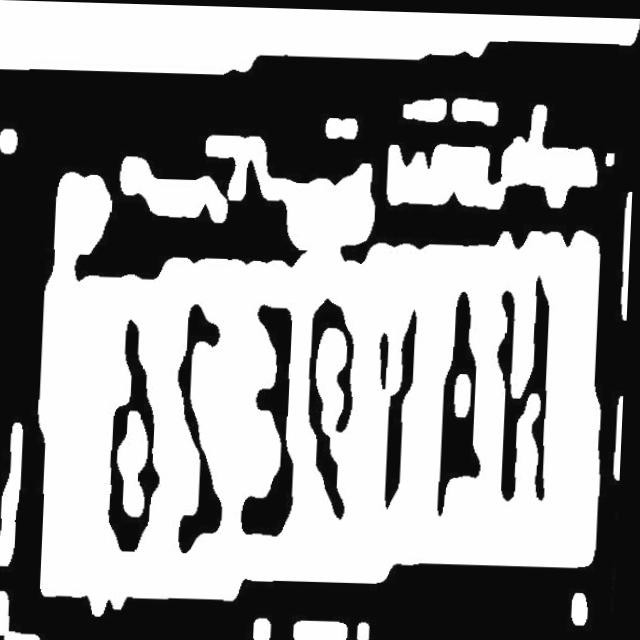2: (167, 297, 240, 552)
6: (104, 310, 172, 558)
9: (301, 293, 367, 532)
e: (237, 295, 305, 539)
k: (434, 283, 495, 523)
n: (490, 274, 561, 512)
y: (369, 293, 430, 518)
